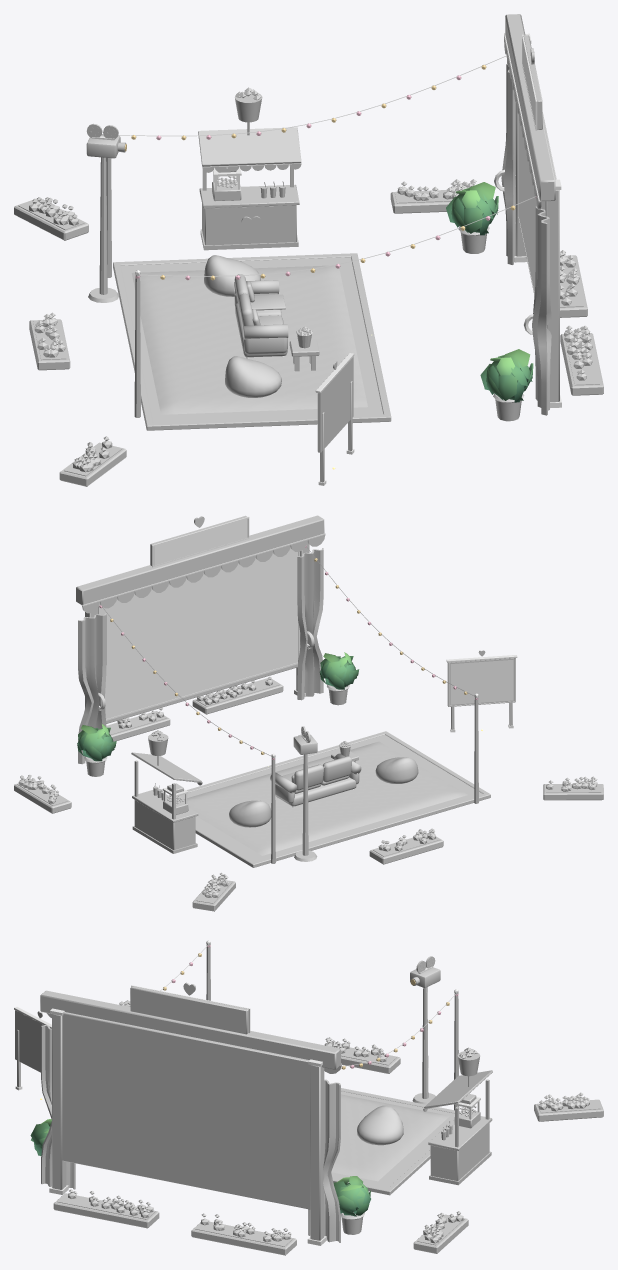
The model's file is zon_cinema.glb.
3 views of the same model, one above another, from view 1: azimuth 30°, elevation 25°; view 2: azimuth 150°, elevation 25°; view 3: azimuth 270°, elevation 25° (orthographic). The views are drawn at different scales.
Visible parts, largest first — view 1: SM_zon_cinema_kit_cinema_x0_z0, SM_zon_cinema_veg_leaf_clip_x1_z0, SM_zon_cinema_kit_cinema_gloss_x0_z0, HIT_bld_cinema_watchlist_sign__0, SCREEN_bld_cinema_screen_film__0, SM_zon_cinema_glow_vc_x0_z0; view 2: SM_zon_cinema_kit_cinema_x0_z0, SCREEN_bld_cinema_screen_film__0, SCREEN_bld_cinema_watchlist_face__0, SM_zon_cinema_kit_cinema_gloss_x0_z0, SM_zon_cinema_veg_leaf_clip_x1_z0, SCREEN_bld_cinema_screen_marquee__0, HIT_bld_cinema_watchlist_sign__0; view 3: SM_zon_cinema_kit_cinema_x0_z0, SM_zon_cinema_veg_leaf_clip_x1_z0, HIT_bld_cinema_watchlist_sign__0, SM_zon_cinema_kit_cinema_gloss_x0_z0.
Part boxes in pixels (<box>): SM_zon_cinema_kit_cinema_x0_z0: <box>14,14,603,486</box>; SM_zon_cinema_veg_leaf_clip_x1_z0: <box>446,182,533,402</box>; SM_zon_cinema_kit_cinema_gloss_x0_z0: <box>92,33,561,485</box>; HIT_bld_cinema_watchlist_sign__0: <box>318,357,353,452</box>; SCREEN_bld_cinema_screen_film__0: <box>518,114,544,292</box>; SM_zon_cinema_glow_vc_x0_z0: <box>124,65,536,280</box>; SM_zon_cinema_kit_cinema_x0_z0: <box>14,515,603,911</box>; SCREEN_bld_cinema_screen_film__0: <box>100,547,297,718</box>; SCREEN_bld_cinema_watchlist_face__0: <box>450,659,513,704</box>; SM_zon_cinema_kit_cinema_gloss_x0_z0: <box>82,516,517,803</box>; SM_zon_cinema_veg_leaf_clip_x1_z0: <box>77,652,359,761</box>; SCREEN_bld_cinema_screen_marquee__0: <box>154,519,247,565</box>; HIT_bld_cinema_watchlist_sign__0: <box>447,658,515,706</box>; SM_zon_cinema_kit_cinema_x0_z0: <box>17,944,603,1255</box>; SM_zon_cinema_veg_leaf_clip_x1_z0: <box>30,1119,370,1216</box>; HIT_bld_cinema_watchlist_sign__0: <box>15,1010,43,1072</box>; SM_zon_cinema_kit_cinema_gloss_x0_z0: <box>14,940,480,1245</box>.
Size of the model in its own units: 21.35 by 9.5 by 21.75.
